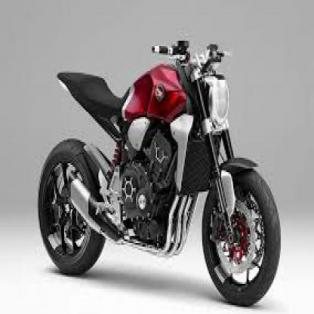Motocicleta: (36, 32, 280, 304)
